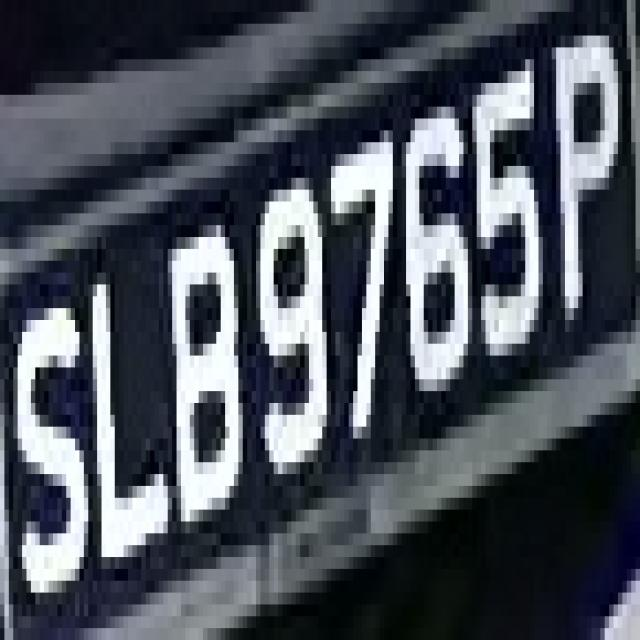5: (463, 71, 552, 391)
6: (384, 71, 477, 427)
7: (322, 71, 397, 474)
9: (238, 166, 340, 474)
B: (159, 190, 247, 557)
L: (79, 237, 168, 616)
P: (543, 12, 627, 344)
S: (4, 272, 93, 604)
